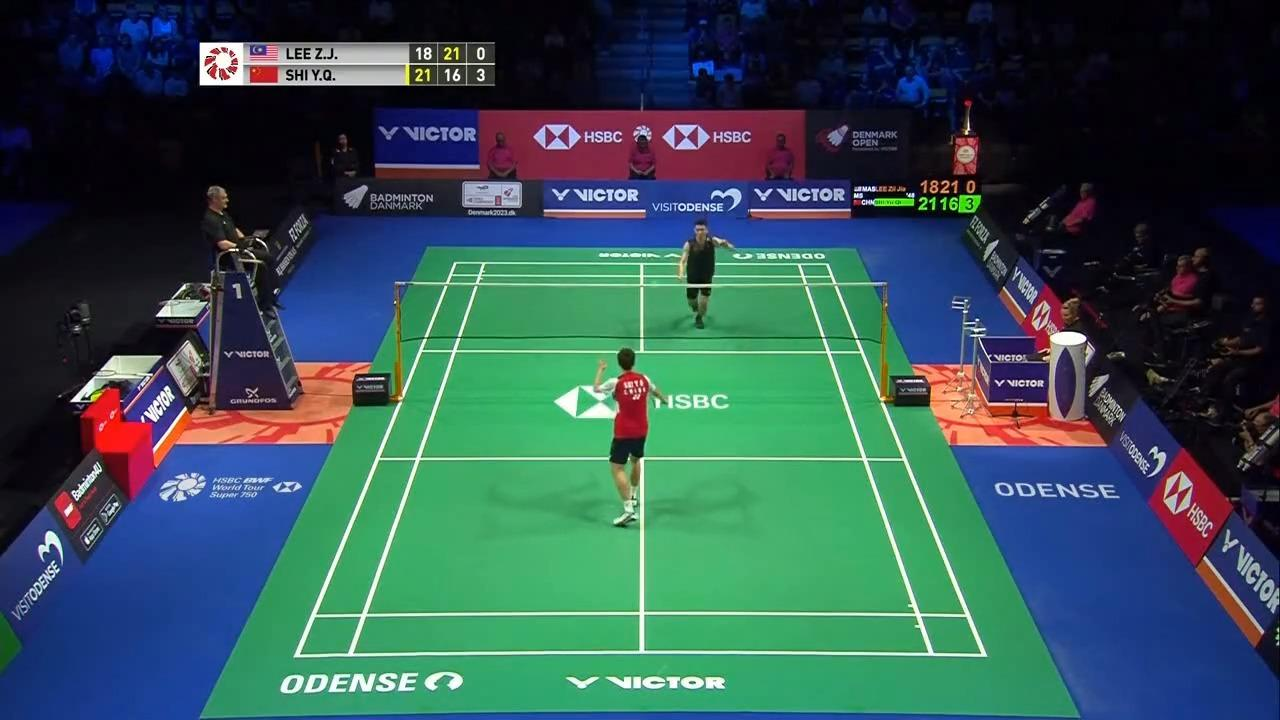shuttle: (650, 279, 661, 288)
